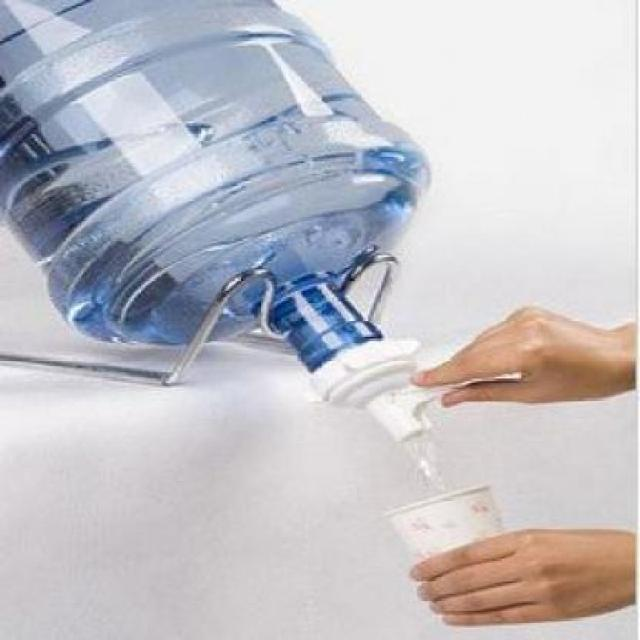coolerbottle: (0, 0, 431, 378)
